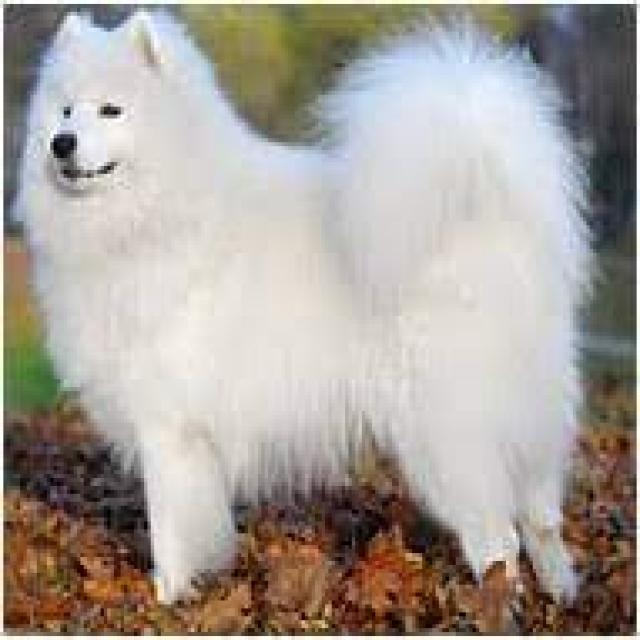dogs: (11, 7, 602, 606)
